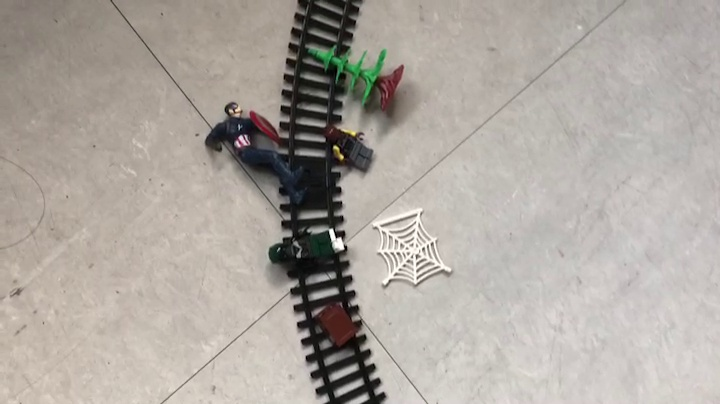box: (313, 302, 358, 349)
people: (205, 100, 313, 206), (267, 225, 346, 277), (319, 123, 375, 176)
tree: (303, 44, 408, 114)
web: (369, 208, 453, 289)
